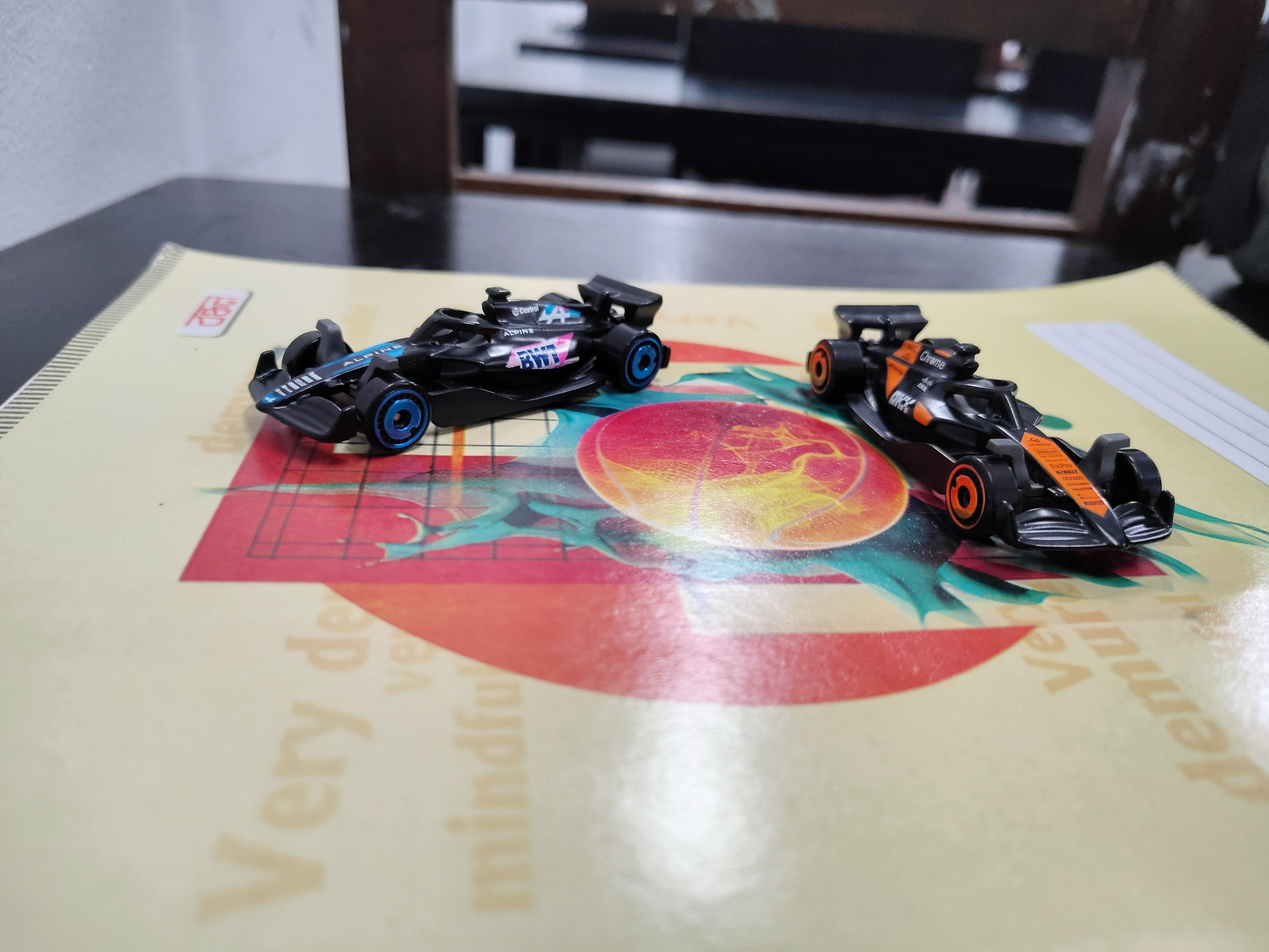Alpine A524: (256, 262, 668, 474)
McLaren MCL40: (787, 239, 1173, 641)
